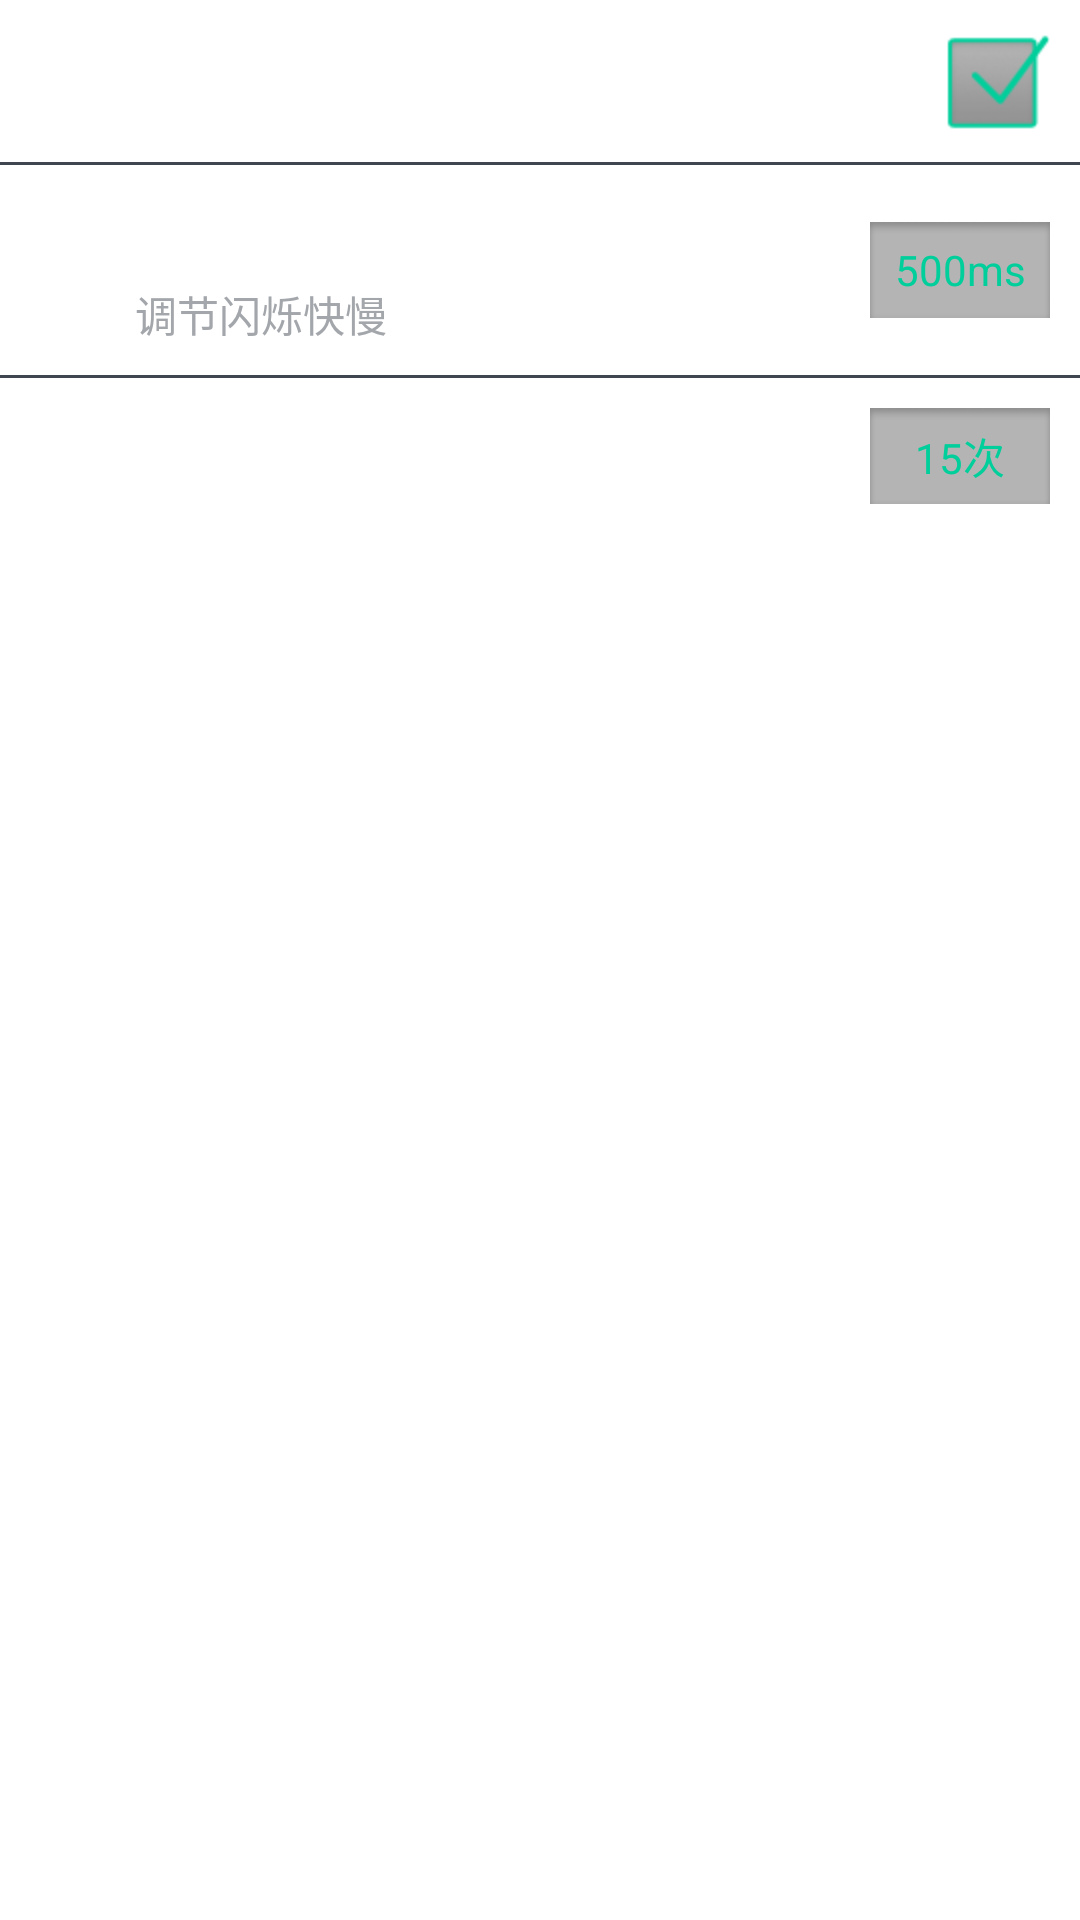

Icons on this 1080 x 1920 Android screen, each with its box as (x1, y1, x2, y2):
checkbox: (947, 35, 1050, 129)
